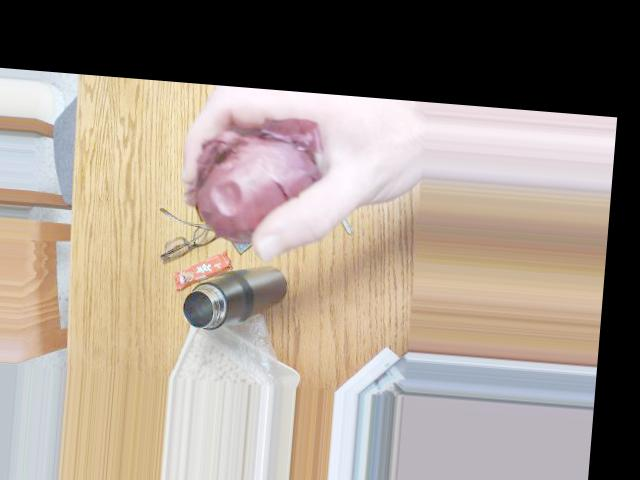onion: (192, 124, 323, 250)
